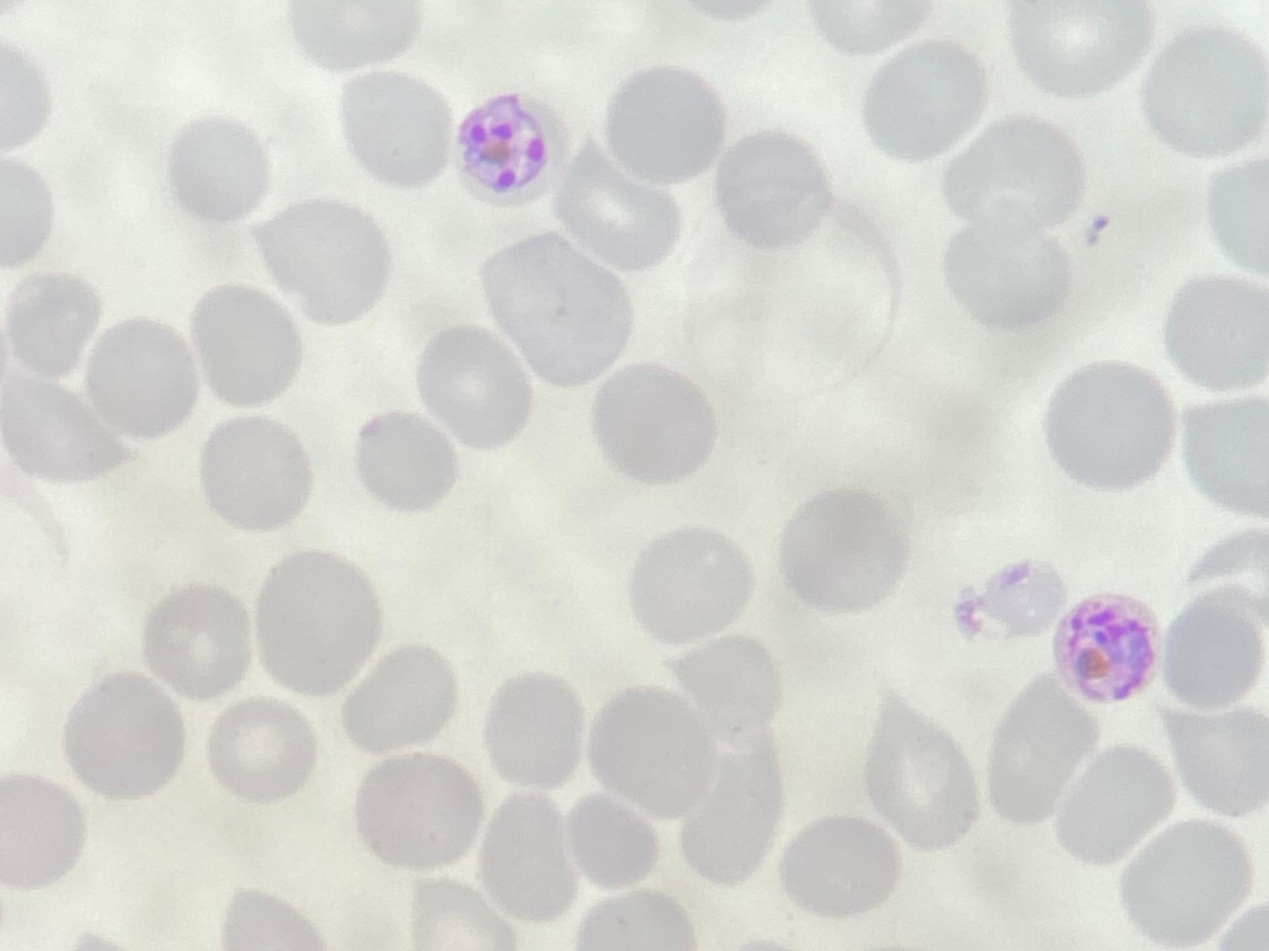Infected: (454, 90, 568, 209), (1057, 592, 1165, 706)
Uninfected: (481, 230, 634, 391), (983, 671, 1104, 825), (861, 689, 977, 846), (1043, 361, 1176, 493), (263, 546, 379, 697), (587, 684, 717, 816), (1117, 818, 1254, 943), (1142, 28, 1269, 160), (263, 199, 391, 328), (557, 141, 684, 270), (943, 116, 1086, 229), (63, 669, 185, 800), (785, 488, 911, 614), (593, 361, 720, 485), (859, 42, 987, 164), (420, 323, 539, 454), (1053, 744, 1178, 866), (357, 752, 485, 869), (606, 61, 729, 182), (717, 126, 835, 250), (628, 529, 754, 644), (1010, 0, 1156, 99), (0, 375, 132, 484), (474, 792, 582, 924), (84, 316, 198, 439), (342, 66, 453, 190), (198, 280, 305, 407), (943, 220, 1071, 325), (778, 808, 906, 912), (684, 747, 779, 886), (200, 415, 313, 530), (142, 582, 252, 699), (1162, 271, 1269, 389), (210, 694, 322, 804), (347, 645, 458, 754), (165, 111, 272, 222), (1168, 699, 1269, 816), (487, 671, 589, 785), (664, 643, 783, 740), (1168, 600, 1269, 710), (1181, 397, 1269, 517), (359, 412, 461, 512), (291, 0, 426, 74), (8, 270, 101, 377), (0, 779, 88, 887), (562, 797, 660, 887)
